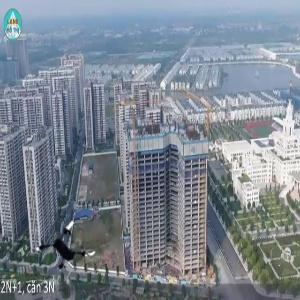drone: (37, 215, 100, 278)
